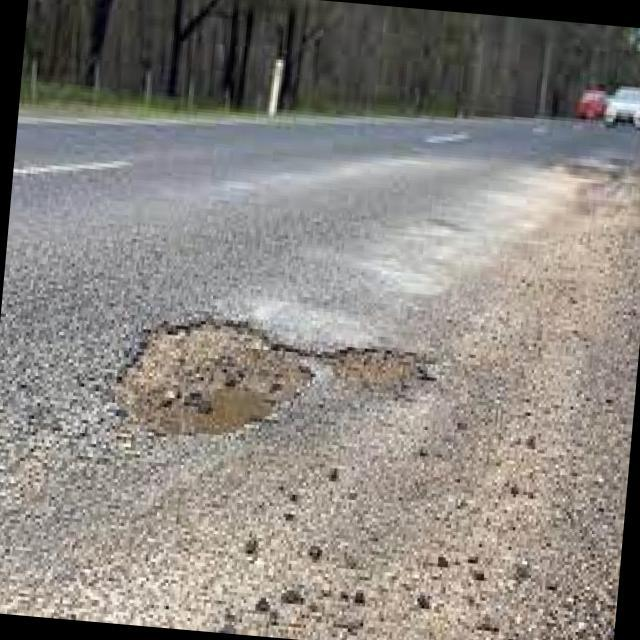pothole: (87, 294, 428, 458)
